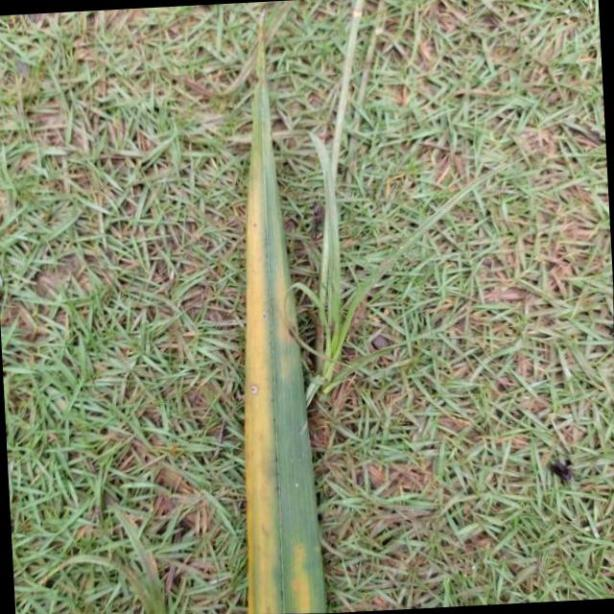Megnesium: (243, 17, 324, 614)
